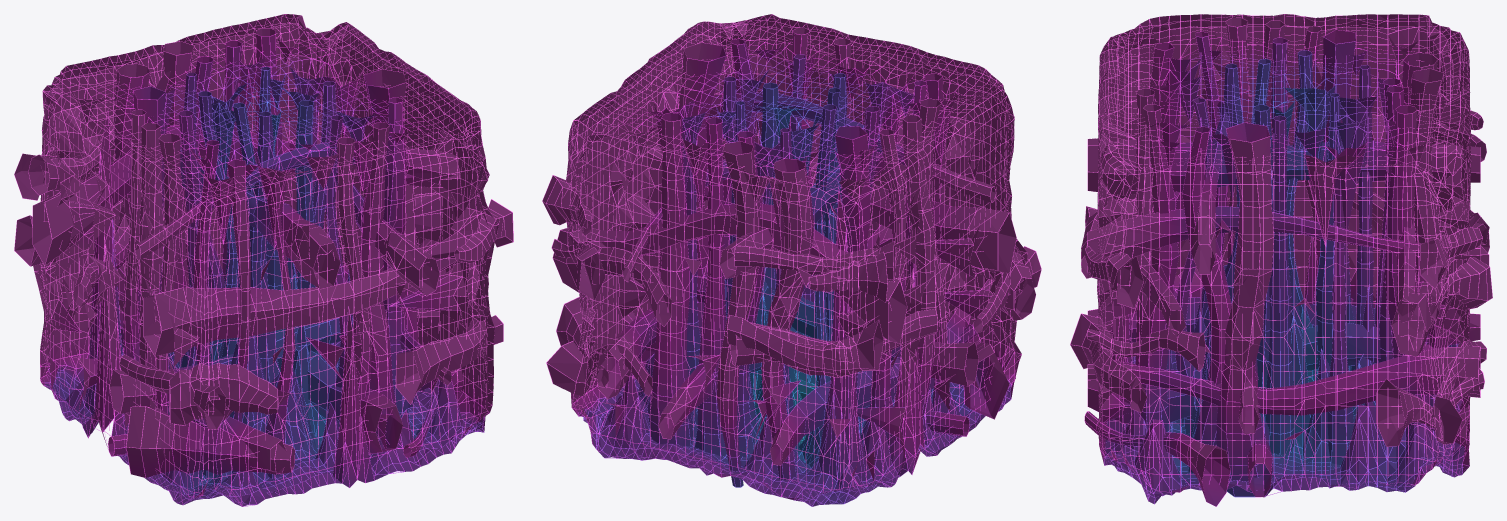
File: terrain19.glb
3 views of the same model, side by side, from view 1: azimuth 30°, elevation 25°; view 2: azimuth 150°, elevation 25°; view 3: azimuth 270°, elevation 25° (orthographic). The views are drawn at different scales.
Parts seen in each view (by area): view 1: battlezone_terrain_surface, battlezone_terrain_wire; view 2: battlezone_terrain_surface, battlezone_terrain_wire; view 3: battlezone_terrain_surface, battlezone_terrain_wire.
Part boxes in pixels (x1=…): battlezone_terrain_surface: x1=14, y1=14, x2=513, y2=506; battlezone_terrain_wire: x1=14, y1=14, x2=513, y2=506; battlezone_terrain_surface: x1=542, y1=14, x2=1041, y2=506; battlezone_terrain_wire: x1=542, y1=14, x2=1041, y2=506; battlezone_terrain_surface: x1=1070, y1=14, x2=1492, y2=506; battlezone_terrain_wire: x1=1070, y1=14, x2=1492, y2=506.
Size of what is drawn, in the model's own units: 105 by 99.61 by 104.
Materials: 2 (2 with a texture image).
